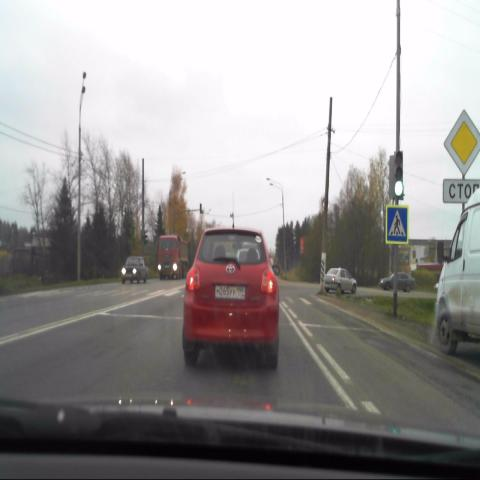2_1: (442, 110, 480, 176)
5_19_1: (385, 205, 410, 245)
6_16: (442, 178, 480, 205)
